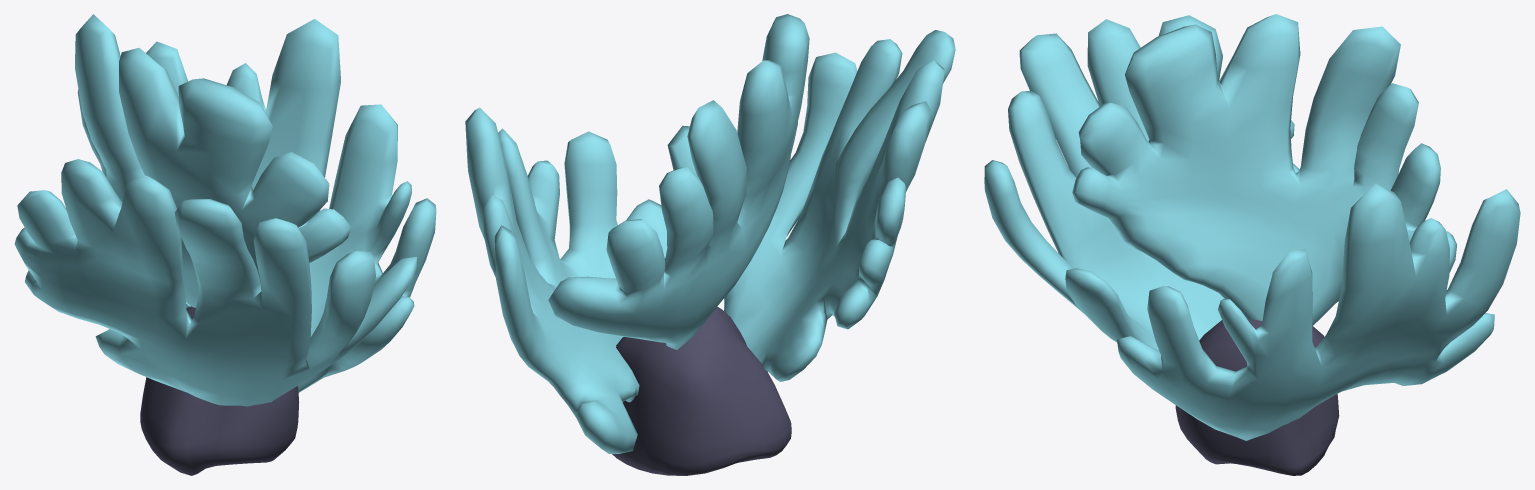
File: Elkhorn_02.fbx
3 renders of one model, left to right at view 1: azimuth 30°, elevation 25°; view 2: azimuth 150°, elevation 25°; view 3: azimuth 270°, elevation 25°, orthographic. The views are drawn at different scales.
Visible parts, largest first — view 1: Elkhorn_02_LOD0; view 2: Elkhorn_02_LOD0; view 3: Elkhorn_02_LOD0.
Boxes of the visible parts, left/top/right/bottom form: Elkhorn_02_LOD0: left=14, top=14, right=436, bottom=475; Elkhorn_02_LOD0: left=465, top=14, right=955, bottom=475; Elkhorn_02_LOD0: left=984, top=14, right=1520, bottom=475.
Size of what is drawn, in the model's own units: 830 by 850 by 1027.
